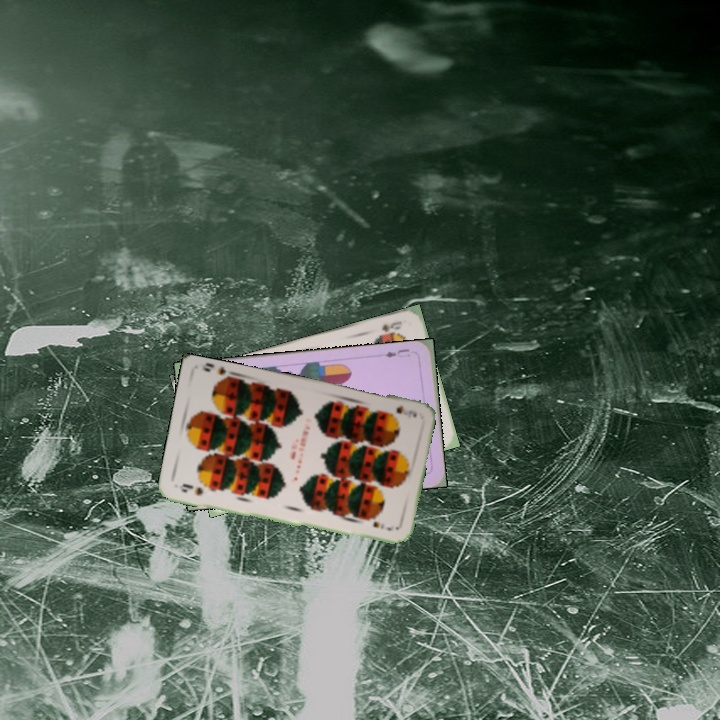EU: (381, 345, 418, 360)
S9: (176, 479, 205, 498), (392, 401, 419, 420)
SO: (375, 317, 405, 339)
